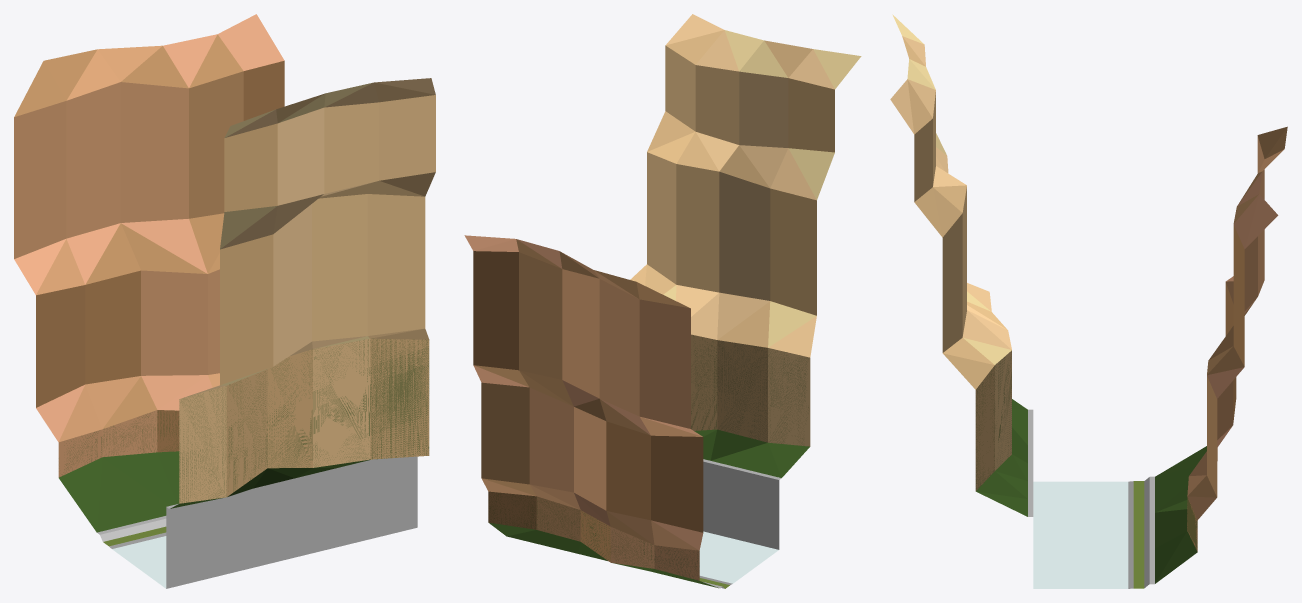
The picture shows the model from 3 angles, left to right: view 1: azimuth 30°, elevation 25°; view 2: azimuth 150°, elevation 25°; view 3: azimuth 270°, elevation 25°; orthographic projection. The views are drawn at different scales.
Visible parts, largest first — view 1: O3427E; view 2: O3427E; view 3: O3427E.
Part boxes in pixels (box(x1,y1,x2,y2)): O3427E: box(14, 14, 435, 588); O3427E: box(464, 14, 861, 588); O3427E: box(890, 14, 1287, 588).
Size of the model in its own units: 52.61 by 96 by 75.08.
